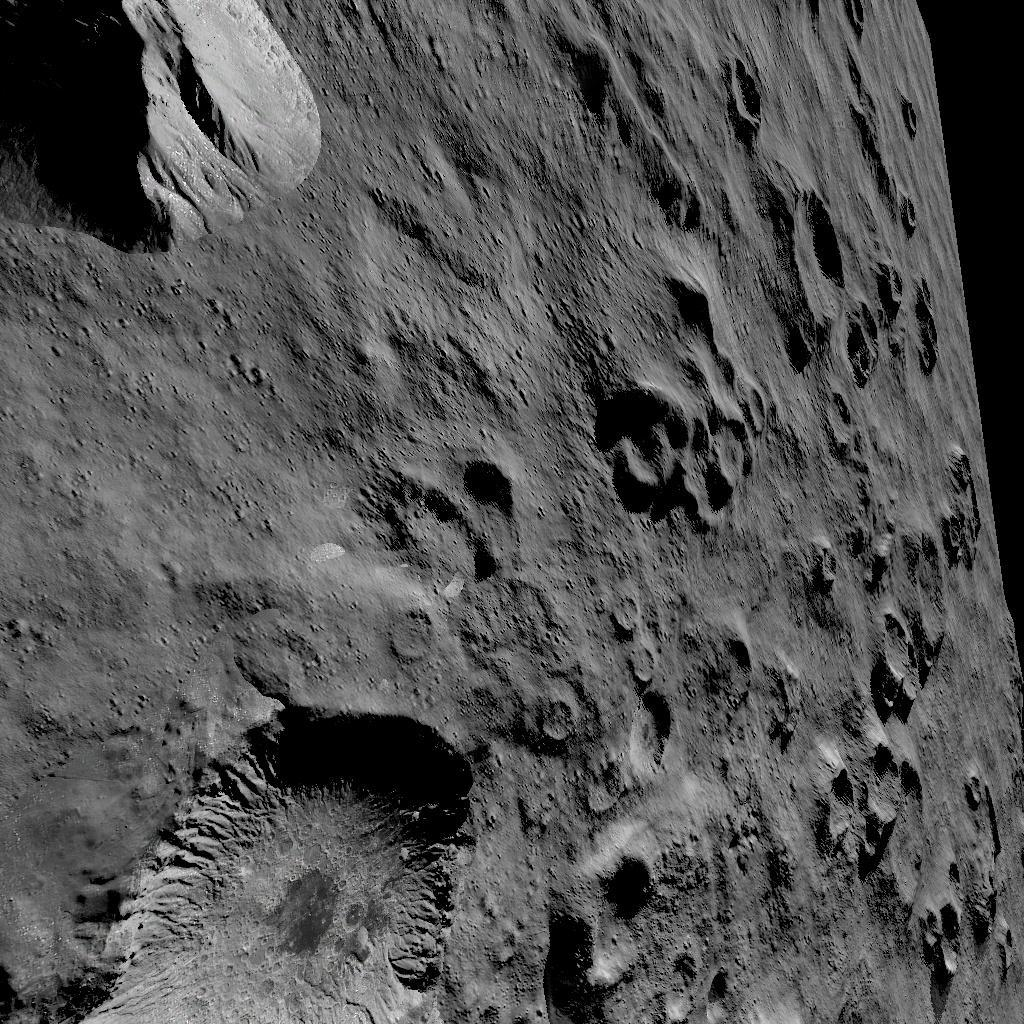Boulders: (0, 0, 327, 251)
Crater: (23, 696, 467, 1018), (765, 180, 935, 392), (563, 384, 757, 532), (353, 454, 506, 585), (529, 844, 637, 1004), (598, 590, 678, 794), (804, 736, 924, 862), (888, 877, 1008, 999), (835, 604, 922, 714), (912, 446, 978, 572), (645, 940, 727, 1024), (713, 52, 768, 144), (379, 608, 437, 668), (524, 692, 573, 752), (883, 87, 925, 150), (777, 540, 818, 600), (809, 400, 850, 458), (830, 0, 871, 50), (944, 764, 980, 810)
Plan surface: (3, 258, 343, 686), (351, 0, 556, 438)
